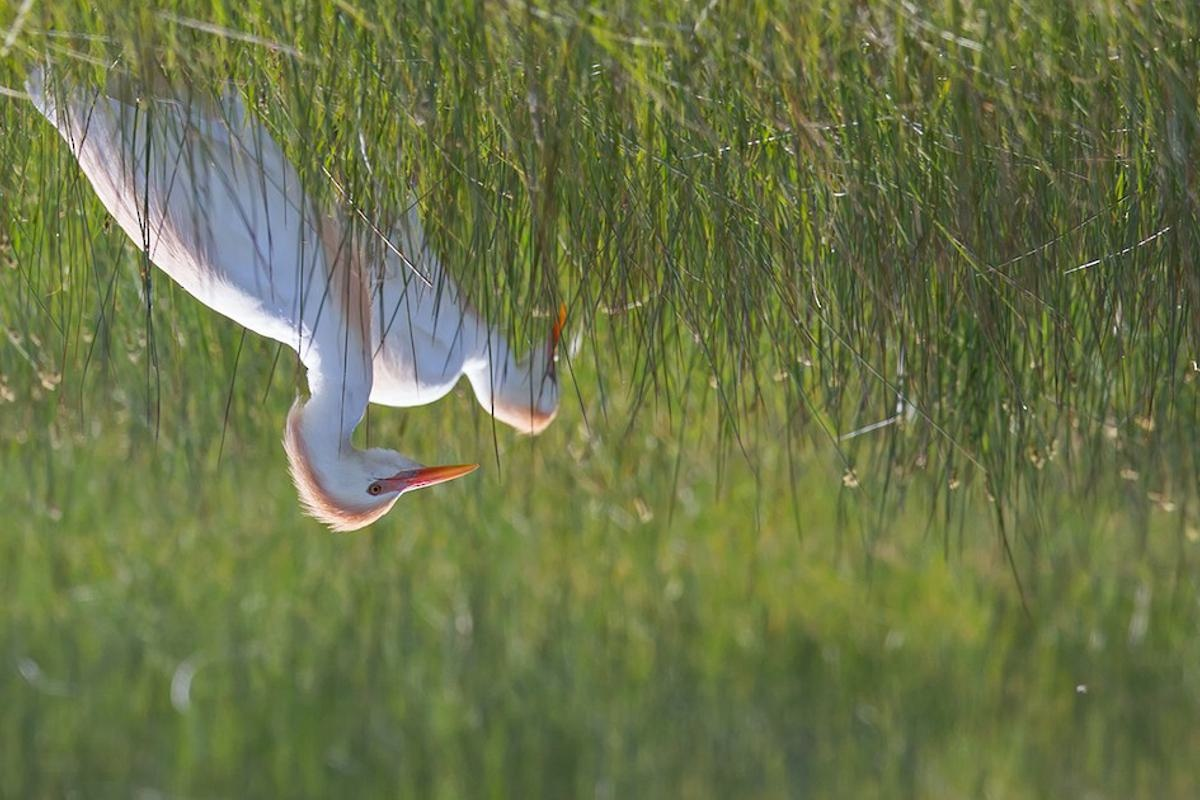egret: (88, 88, 485, 538), (331, 244, 602, 458)
